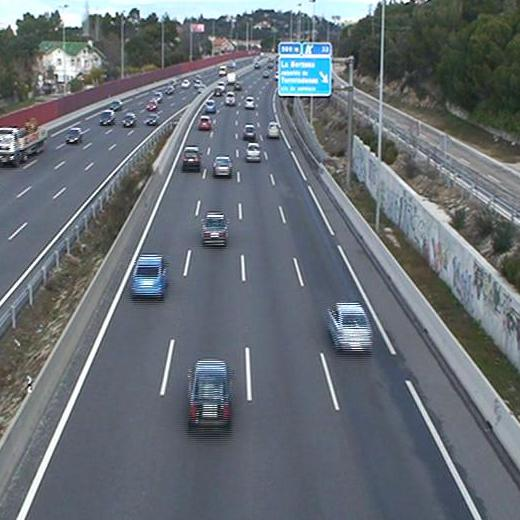car: (188, 359, 232, 427), (326, 303, 373, 352), (131, 255, 168, 297), (198, 211, 231, 246), (182, 145, 202, 169), (212, 155, 233, 177), (245, 142, 262, 161), (243, 124, 256, 138), (198, 116, 210, 128), (268, 121, 279, 134), (205, 100, 216, 113), (226, 91, 236, 105), (245, 96, 255, 108)
